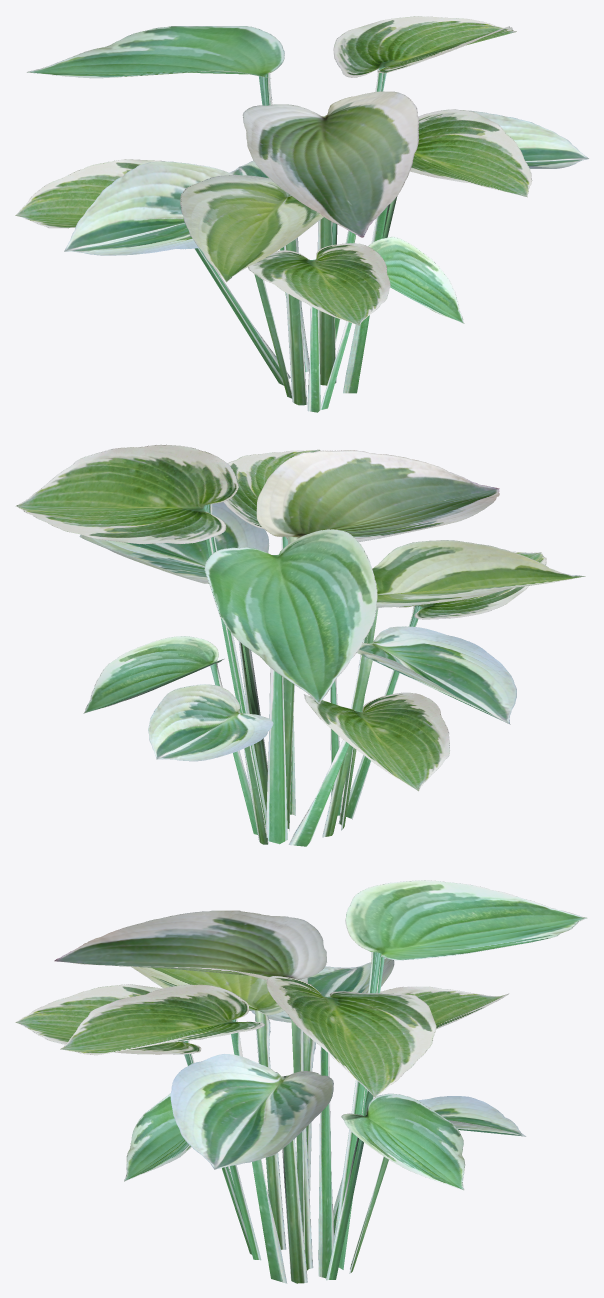
Rendered from plant_small_wg_00V.fbx.
3 renders of one model, top to bottom at view 1: azimuth 30°, elevation 25°; view 2: azimuth 150°, elevation 25°; view 3: azimuth 270°, elevation 25°, orthographic. The views are drawn at different scales.
Visible parts, largest first — view 1: plant_small_wg_00V; view 2: plant_small_wg_00V; view 3: plant_small_wg_00V.
Boxes of the visible parts, x1,y1,x2,y2 form: plant_small_wg_00V: (15,16,588,412); plant_small_wg_00V: (15,444,585,846); plant_small_wg_00V: (15,880,587,1283).
Size of the model in its own units: 63.41 by 42.35 by 64.82.
Materials: 1 (1 with a texture image).
